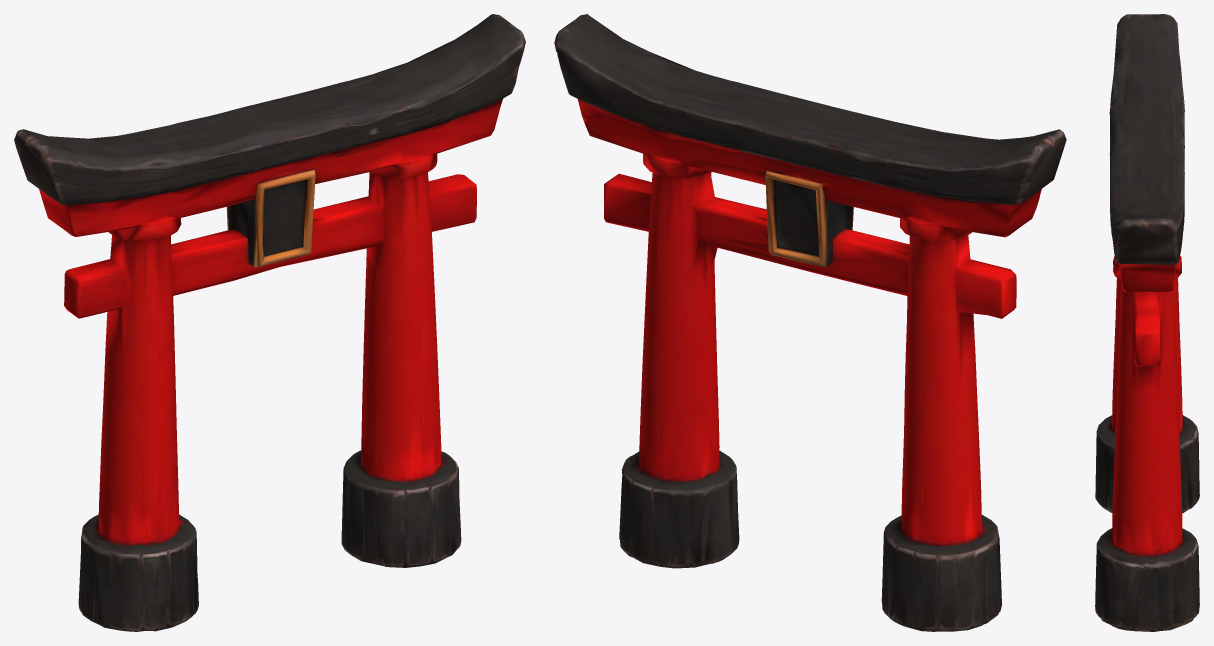
Rendered from torii.glb.
The picture shows the model from 3 angles, left to right: view 1: azimuth 30°, elevation 25°; view 2: azimuth 150°, elevation 25°; view 3: azimuth 270°, elevation 25°; orthographic projection. The views are drawn at different scales.
Visible parts, largest first — view 1: torii; view 2: torii; view 3: torii.
Part boxes in pixels (x1,y1,x2,y2): torii: (14, 14, 525, 631); torii: (554, 14, 1066, 631); torii: (1095, 14, 1199, 631).
Size of the model in its own units: 0.9792 by 0.9568 by 0.2066.
1 material, 1 textured.
